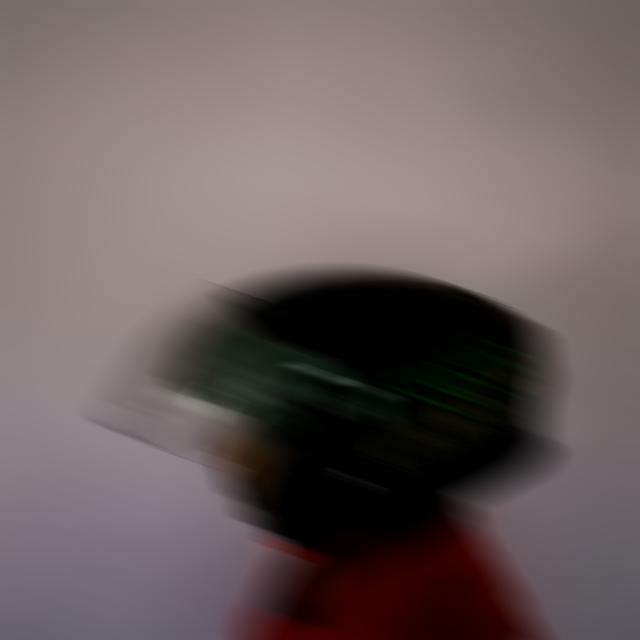With Helmet: (95, 266, 554, 558)
